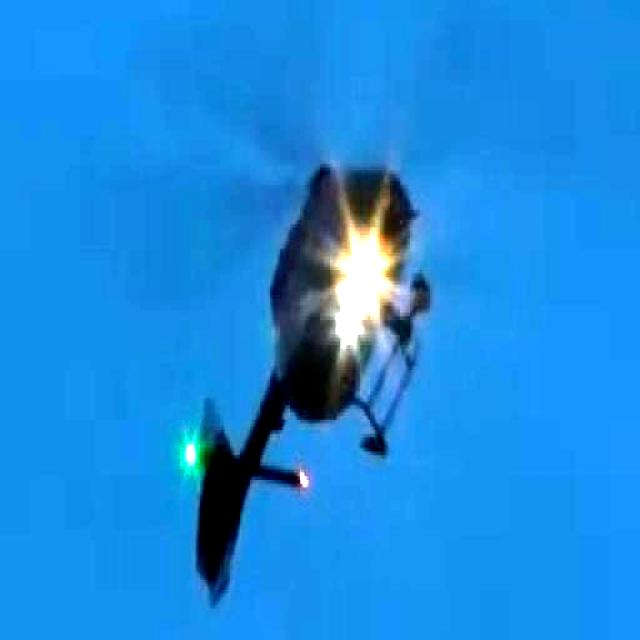drone: (184, 155, 429, 625)
